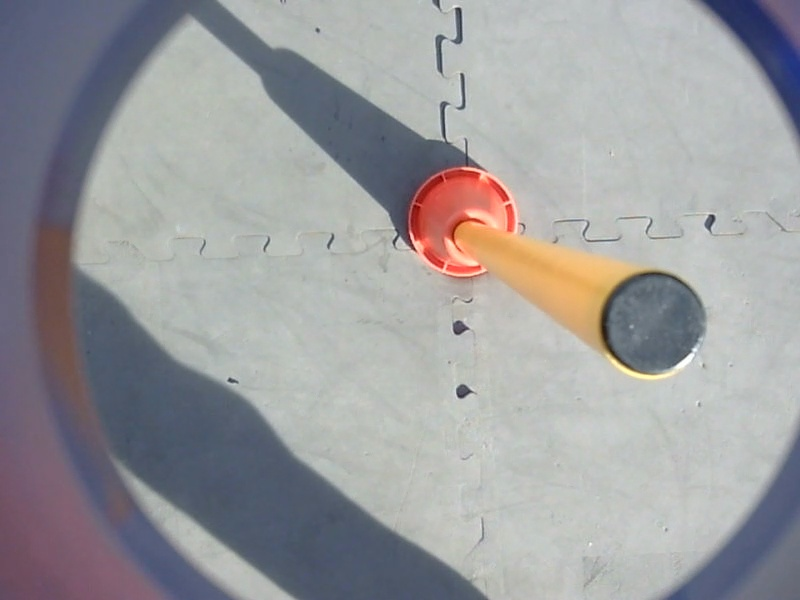tip: (590, 264, 713, 383)
